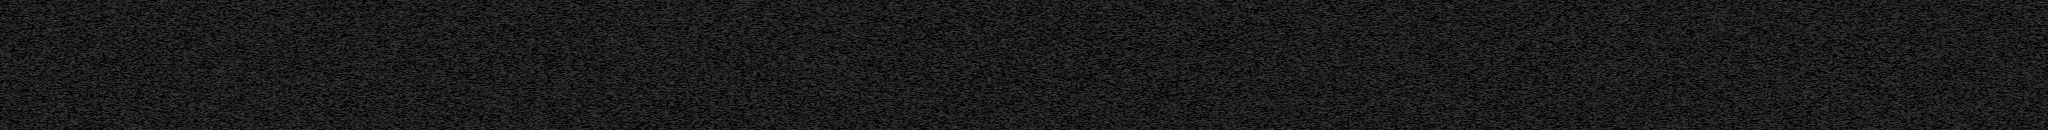wv_cw: (1689, 0, 1695, 130)
wv_lsb: (1721, 1, 1727, 123), (1664, 74, 1669, 127), (1706, 29, 1711, 75), (1706, 3, 1711, 27), (1706, 75, 1711, 94), (1707, 101, 1710, 125), (1665, 16, 1669, 27), (1665, 3, 1669, 14), (1664, 62, 1669, 69), (1721, 125, 1725, 130), (1706, 97, 1711, 101), (1665, 48, 1668, 53), (1665, 70, 1669, 73), (1665, 55, 1668, 58)
wv_usb: (1860, 3, 1865, 21), (1861, 22, 1865, 39), (1861, 101, 1864, 116), (1861, 43, 1864, 57), (1861, 58, 1864, 65), (1861, 118, 1864, 122)
